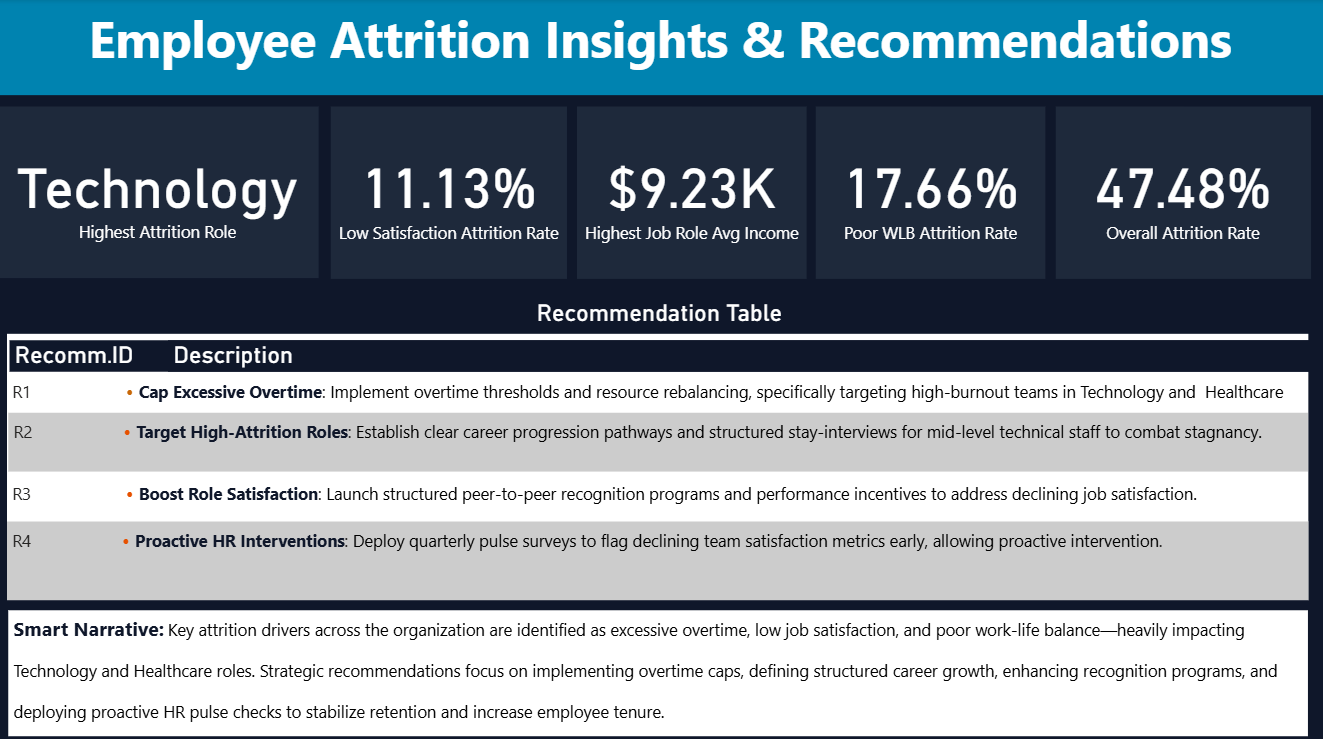

Layout of this report page (visuals, bound fields, positions):
{"tool":"powerbi","page":{"name":"Recommendations","canvas":[1280,720],"ordinal":2},"visuals":[{"type":"textbox","box":[0,0,1280.3,92.9],"z":0},{"type":"card","fields":{"Values":["public employee_attrition.Highest Attrition Role"]},"box":[0,103.8,310.1,165.3],"z":1000},{"type":"card","fields":{"Values":["public employee_attrition.Low Satisfaction Attrition Rate"]},"box":[322.1,103.8,228,166.5],"z":2000},{"type":"card","fields":{"Values":["public employee_attrition.Poor WLB Attrition Rate"]},"box":[790.2,103.8,222,166.5],"z":3000},{"type":"card","fields":{"Values":["public employee_attrition.Highest Job Role Avg Income"]},"box":[559.8,103.8,222,166.5],"z":4000},{"type":"card","fields":{"Values":["public employee_attrition.Overall Attrition Rate"]},"box":[1021.9,103.8,246.1,166.5],"z":5000},{"type":"textbox","box":[9.7,289.5,1255.9,290.8],"z":6000},{"type":"textbox","title":"Recommendation Table","box":[9.7,289.5,1259.5,33.8],"z":7000},{"type":"textbox","title":"Recomm.ID                    ","box":[12.1,329.4,1254.7,30.2],"z":8000},{"type":"textbox","title":"Description","box":[165.3,329.4,1102.7,30.2],"z":9000},{"type":"textbox","box":[10.9,589.9,1254.7,121.9],"z":10000},{"type":"textbox","box":[10.9,399.3,1254.7,56.7],"z":11000},{"type":"textbox","box":[9.7,504.3,1255.9,76],"z":12000}]}

Visuals, with their boxes in screenshot pixels (x1, y1, x2, y2), scaled from the page's 1280x720 canvas onto the 1323x739 screenshot:
textbox: [x1=0, y1=0, x2=1322, y2=95]
card - public employee_attrition.Highest Attrition Role: [x1=0, y1=107, x2=321, y2=276]
card - public employee_attrition.Low Satisfaction Attrition Rate: [x1=333, y1=107, x2=569, y2=277]
card - public employee_attrition.Poor WLB Attrition Rate: [x1=817, y1=107, x2=1046, y2=277]
card - public employee_attrition.Highest Job Role Avg Income: [x1=579, y1=107, x2=808, y2=277]
card - public employee_attrition.Overall Attrition Rate: [x1=1056, y1=107, x2=1311, y2=277]
textbox: [x1=10, y1=297, x2=1308, y2=596]
"Recommendation Table" textbox: [x1=10, y1=297, x2=1312, y2=332]
"Recomm.ID                    " textbox: [x1=13, y1=338, x2=1309, y2=369]
"Description" textbox: [x1=171, y1=338, x2=1311, y2=369]
textbox: [x1=11, y1=605, x2=1308, y2=731]
textbox: [x1=11, y1=410, x2=1308, y2=468]
textbox: [x1=10, y1=518, x2=1308, y2=596]
